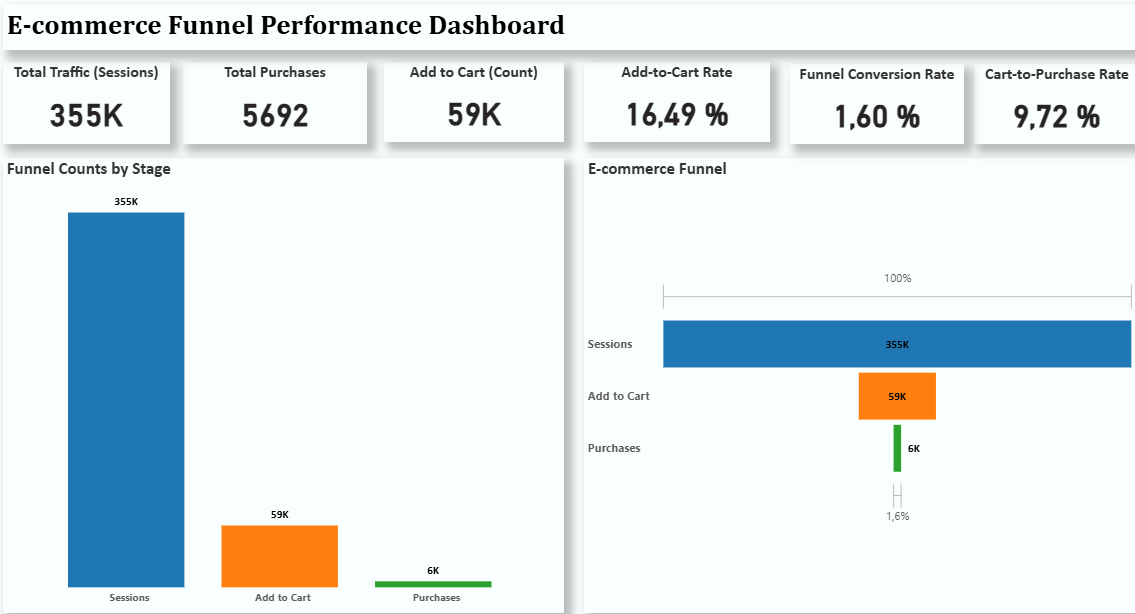

What the dashboard file says about the page in this screenshot:
{"tool":"powerbi","page":{"name":"Page 3","canvas":[1372,770],"ordinal":2},"visuals":[{"type":"card","title":"Total Traffic (Sessions)","fields":{"Values":["funnel_summary.Total Sessions(F)"]},"box":[14.7,110.3,197.1,97.1],"z":0},{"type":"card","title":"Total Purchases","fields":{"Values":["funnel_summary.Total Purchases(F)"]},"box":[226.5,110.3,217.7,97.1],"z":1000},{"type":"card","title":"Add to Cart (Count)","fields":{"Values":["funnel_summary.Total Add to Cart"]},"box":[463.3,110.3,211.8,94.1],"z":2000},{"type":"card","title":"Funnel Conversion Rate","fields":{"Values":["funnel_summary.Funnel Conversion %"]},"box":[941.3,113.3,204.4,94.1],"z":3000},{"type":"card","title":"Add-to-Cart Rate","fields":{"Values":["funnel_summary.Add-to-Cart Rate %"]},"box":[698.7,110.3,219.2,94.1],"z":4000},{"type":"card","title":"Cart-to-Purchase Rate","fields":{"Values":["funnel_summary.Cart → Purchase Rate %"]},"box":[1157.6,113.3,195.6,94.1],"z":5000},{"type":"clusteredColumnChart","title":"Funnel Counts by Stage","fields":{"Category":["funnel_summary.Metric"],"Y":["Sum(funnel_summary.Value)"]},"box":[14.7,223.6,660.4,535.4],"z":6000},{"type":"funnel","title":"E-commerce Funnel","fields":{"Category":["funnel_summary.Metric"],"Y":["Sum(funnel_summary.Value)"]},"box":[698.7,223.6,654.5,535.4],"z":7000},{"type":"textbox","box":[14.7,16.2,1338.5,80.9],"z":8000}]}

Visuals, with their boxes on the page's 1372x770 design canvas (x1, y1, x2, y2). These are canvas units, not pixel positions in the 1135x614 screenshot, which may show the page scaled, cropped or inside an application window:
"Total Traffic (Sessions)" card: x1=15 y1=110 x2=212 y2=207
"Total Purchases" card: x1=226 y1=110 x2=444 y2=207
"Add to Cart (Count)" card: x1=463 y1=110 x2=675 y2=204
"Funnel Conversion Rate" card: x1=941 y1=113 x2=1146 y2=207
"Add-to-Cart Rate" card: x1=699 y1=110 x2=918 y2=204
"Cart-to-Purchase Rate" card: x1=1158 y1=113 x2=1353 y2=207
"Funnel Counts by Stage" clusteredColumnChart: x1=15 y1=224 x2=675 y2=759
"E-commerce Funnel" funnel: x1=699 y1=224 x2=1353 y2=759
textbox: x1=15 y1=16 x2=1353 y2=97
